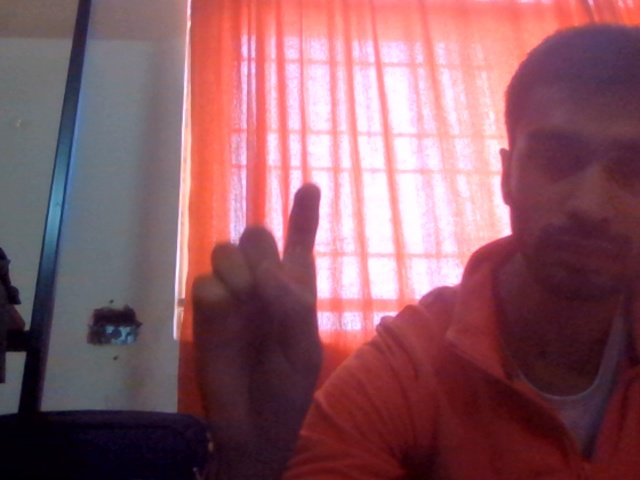X: (136, 141, 428, 469)
